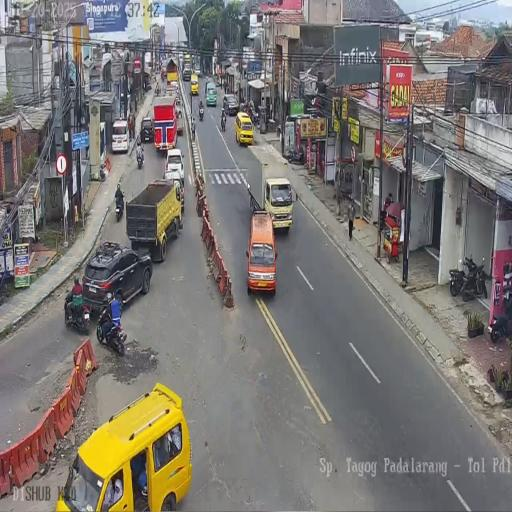car: (54, 382, 190, 508), (82, 240, 152, 313), (246, 211, 277, 296), (263, 176, 294, 232), (164, 148, 184, 198), (112, 118, 130, 154), (235, 112, 253, 145), (140, 115, 154, 142), (222, 94, 238, 116), (205, 82, 217, 106), (190, 73, 199, 96), (174, 96, 182, 118), (194, 66, 201, 76)
motorcycle: (96, 306, 127, 356), (488, 291, 512, 342), (462, 255, 488, 302), (64, 288, 89, 334), (449, 267, 465, 296), (284, 143, 304, 165), (115, 193, 124, 221), (136, 143, 144, 168), (220, 109, 226, 131), (198, 105, 204, 120), (276, 122, 281, 138), (155, 82, 160, 96)
truck: (125, 177, 183, 262), (152, 96, 178, 154), (167, 80, 178, 97), (183, 60, 192, 80), (144, 52, 151, 72)
